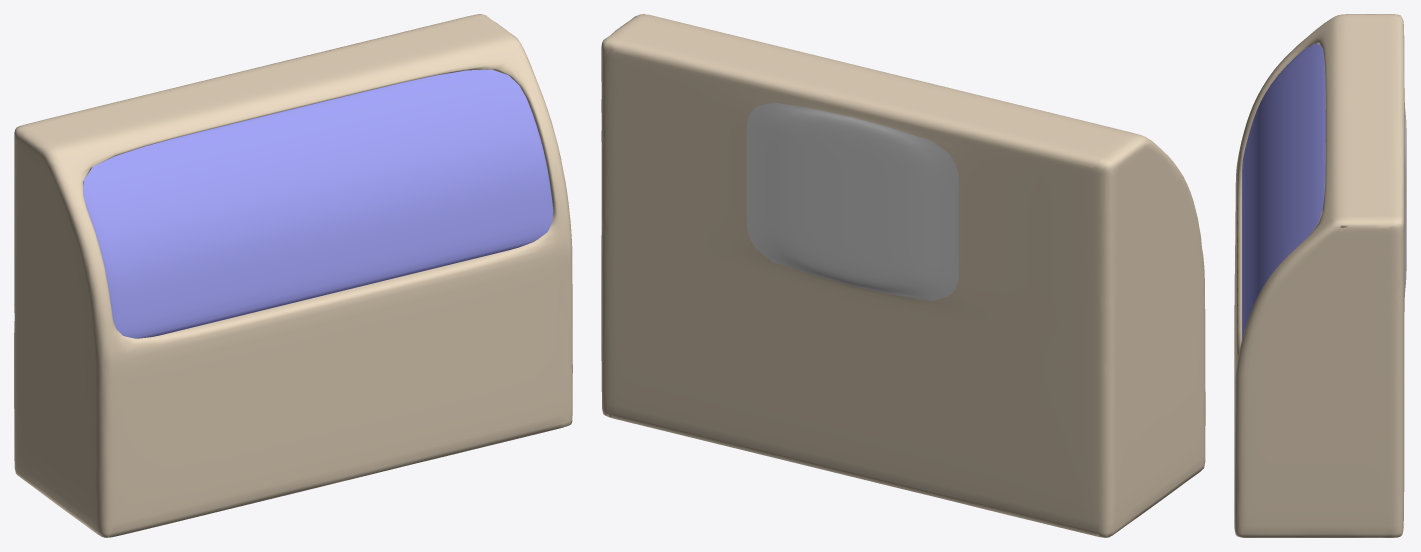
File: Ice_cream_cabinet.fbx
The picture shows the model from 3 angles, left to right: view 1: azimuth 30°, elevation 25°; view 2: azimuth 150°, elevation 25°; view 3: azimuth 270°, elevation 25°; orthographic projection. The views are drawn at different scales.
Visible parts, largest first — view 1: Ice_cream_cabinet; view 2: Ice_cream_cabinet; view 3: Ice_cream_cabinet.
Boxes of the visible parts, x1,y1,x2,y2 form: Ice_cream_cabinet: (14, 14, 572, 537); Ice_cream_cabinet: (601, 14, 1205, 537); Ice_cream_cabinet: (1234, 14, 1406, 537).
Size of the model in its own units: 179 by 126 by 61.89.
